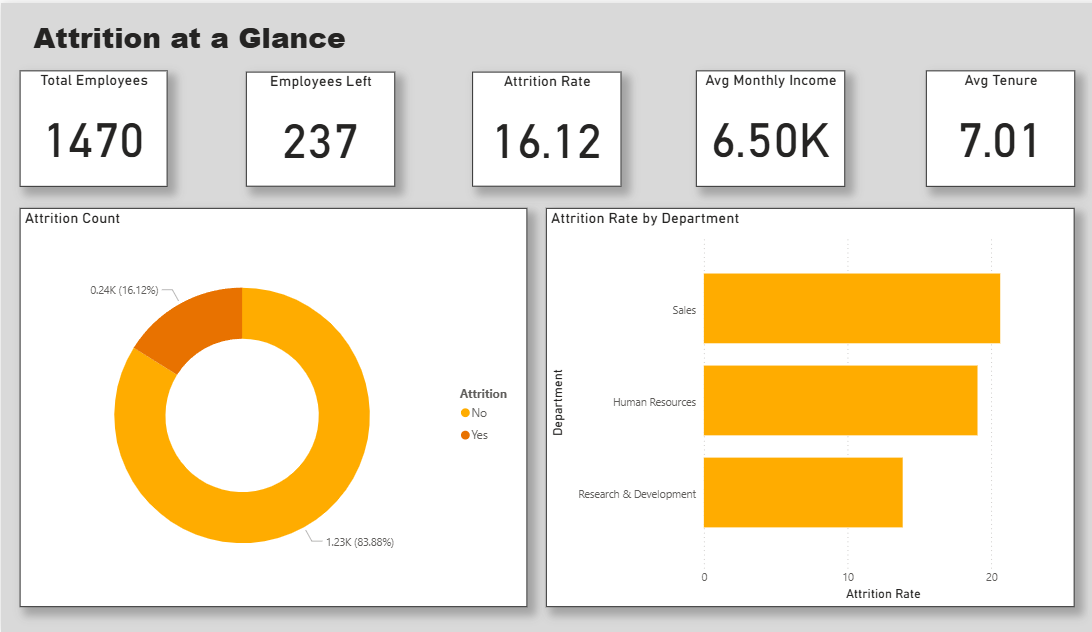

This screenshot's page, from the dashboard's own definition file:
{"tool":"powerbi","page":{"name":" Overview","canvas":[1280,720],"ordinal":0},"visuals":[{"type":"card","title":"Total Employees","fields":{"Values":["Count(WA_Fn-UseC_-HR-Employee-Attrition.EmployeeNumber)"]},"box":[21.4,77.1,168.6,132.9],"z":0},{"type":"card","title":"Employees Left","fields":{"Values":["CountNonNull(WA_Fn-UseC_-HR-Employee-Attrition.Attrition)"]},"box":[280,78.6,170,131.4],"z":1000},{"type":"card","title":"Attrition Rate","fields":{"Values":["hrdata.Attrition Rate"]},"box":[538.6,78.6,170,131.4],"z":2000},{"type":"card","title":"Avg Monthly Income","fields":{"Values":["hrdata.Avg Monthly Income"]},"box":[794.3,77.1,170,132.9],"z":3000},{"type":"card","title":"Avg Tenure","fields":{"Values":["hrdata.Avg Tenure"]},"box":[1057.1,77.1,170,132.9],"z":4000},{"type":"donutChart","title":"Attrition Count","fields":{"Y":["CountNonNull(hrdata.Attrition)"],"Series":["hrdata.Attrition"]},"box":[21.4,234.3,580,455.7],"z":5000},{"type":"clusteredBarChart","fields":{"Category":["hrdata.Department"],"Y":["hrdata.Attrition Rate"]},"box":[622.9,234.3,604.3,455.7],"z":6000},{"type":"textbox","box":[21.4,11.4,1205.7,55.7],"z":6001}]}

Visuals, with their boxes in screenshot pixels (x1, y1, x2, y2), scaled from the page's 1280x720 canvas onto the 1092x632 screenshot:
"Total Employees" card: Rect(18, 68, 162, 184)
"Employees Left" card: Rect(239, 69, 384, 184)
"Attrition Rate" card: Rect(459, 69, 605, 184)
"Avg Monthly Income" card: Rect(678, 68, 823, 184)
"Avg Tenure" card: Rect(902, 68, 1047, 184)
"Attrition Count" donutChart: Rect(18, 206, 513, 606)
clusteredBarChart - hrdata.Department x hrdata.Attrition Rate: Rect(531, 206, 1047, 606)
textbox: Rect(18, 10, 1047, 59)
